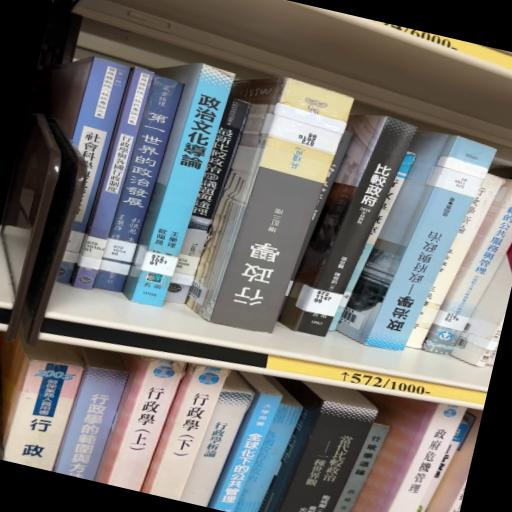reverse: (188, 78, 354, 334), (338, 134, 496, 351)
